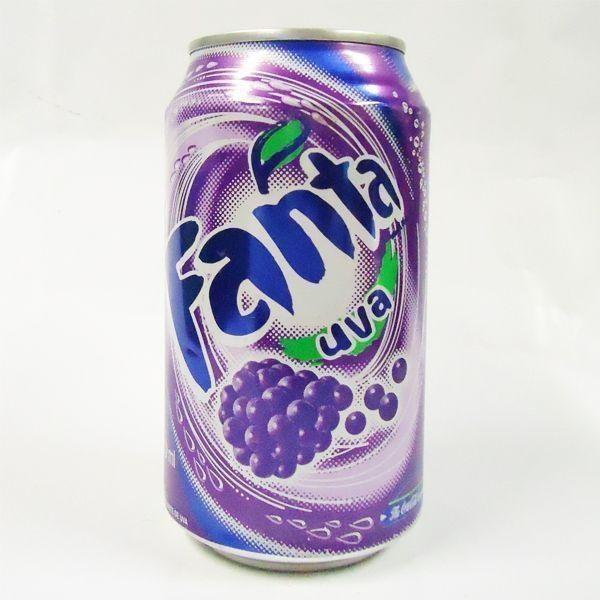tin can: (162, 25, 432, 572)
